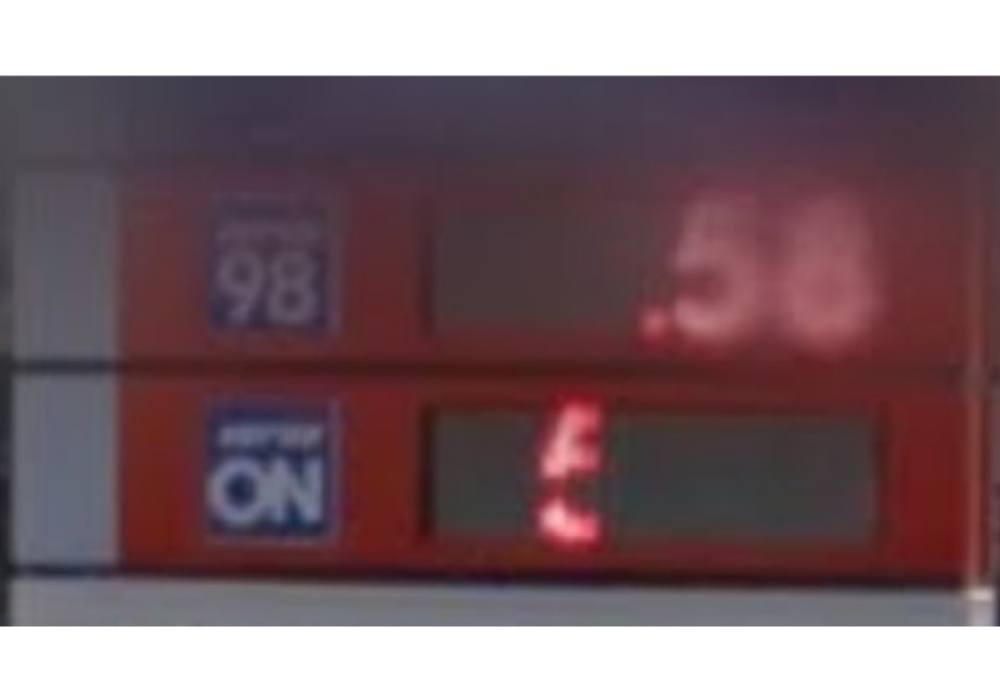ON: (200, 395, 336, 542)
PB98: (210, 197, 337, 334)
